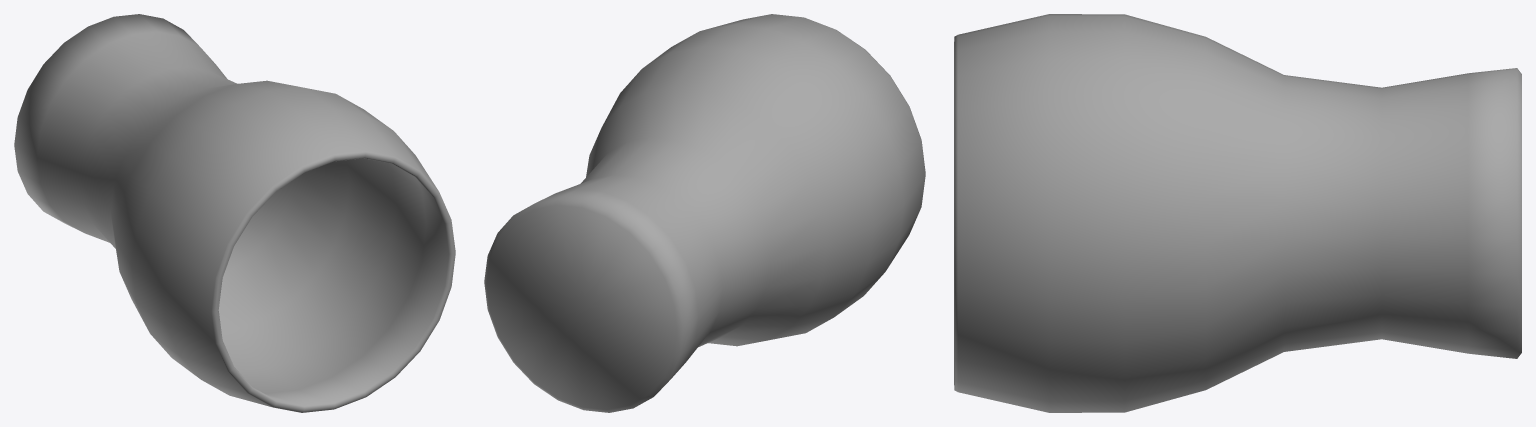
The model's file is MeshCup_8_0_GeomSubset_0.obj.
The picture shows the model from 3 angles, left to right: view 1: azimuth 30°, elevation 25°; view 2: azimuth 150°, elevation 25°; view 3: azimuth 270°, elevation 25°; orthographic projection. The views are drawn at different scales.
Parts seen in each view (by area): view 1: MeshCup_8_0_GeomSubset_0; view 2: MeshCup_8_0_GeomSubset_0; view 3: MeshCup_8_0_GeomSubset_0.
Boxes of the visible parts, bbox=[...] form: MeshCup_8_0_GeomSubset_0: bbox=[14, 14, 455, 412]; MeshCup_8_0_GeomSubset_0: bbox=[484, 14, 925, 412]; MeshCup_8_0_GeomSubset_0: bbox=[954, 14, 1521, 412].
Size of the model in its own units: 0.1058 by 0.1058 by 0.15.
